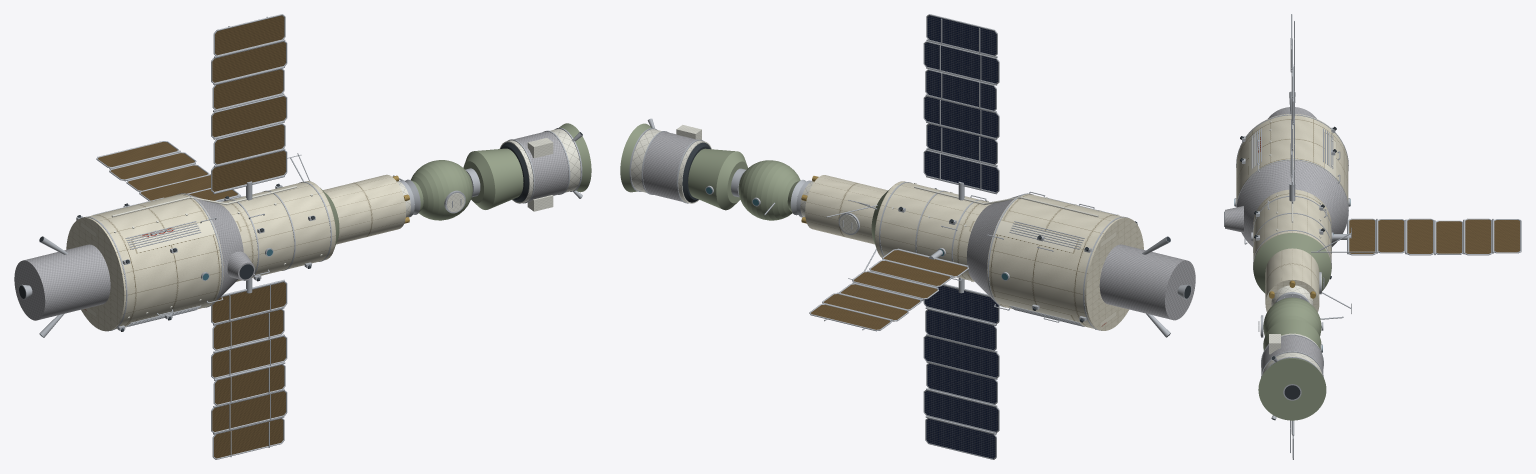
File: salyut-4.glb
The picture shows the model from 3 angles, left to right: view 1: azimuth 30°, elevation 25°; view 2: azimuth 150°, elevation 25°; view 3: azimuth 270°, elevation 25°; orthographic projection. The views are drawn at different scales.
Visible parts, largest first — view 1: Large work compartment, Small work compartment, Soyuz-derived service module, Transfer compartment, Atlas docked Soyuz front ferry / Service thermal blanket, Array 1 section 3 back, Array 1 section 5 back, Array 1 section 1 back, Array 2 section 5 back, Array 2 section 3 back, Array 2 section 1 back, Array 1 section 2 back (+14 smaller); view 2: Large work compartment, Small work compartment, Soyuz-derived service module, Transfer compartment, Atlas docked Soyuz front ferry / Service thermal blanket, Work transition cone, Array 2 section 3 cells, Array 2 section 5 cells, Array 1 section 5 cells, Array 1 section 3 cells, Array 1 section 1 cells, Array 2 section 4 cells (+16 smaller); view 3: Large work compartment, Work transition cone, Small work compartment, Atlas docked Soyuz front ferry / Aft equipment skirt, Transfer compartment, Transfer transition, Array 3 section 3 back, Array 3 section 5 back, Array 3 section 1 back, Atlas docked Soyuz front ferry / Service thermal blanket, Array 3 section 2 back, Array 3 section 4 back (+6 smaller).
Boxes of the visible parts, x1=… form: Large work compartment: x1=66, y1=194, x2=223, y2=331; Small work compartment: x1=218, y1=181, x2=335, y2=281; Soyuz-derived service module: x1=14, y1=244, x2=110, y2=320; Transfer compartment: x1=323, y1=174, x2=405, y2=244; Atlas docked Soyuz front ferry / Service thermal blanket: x1=514, y1=131, x2=568, y2=201; Array 1 section 3 back: x1=212, y1=96, x2=285, y2=137; Array 1 section 5 back: x1=212, y1=42, x2=285, y2=82; Array 1 section 1 back: x1=212, y1=151, x2=285, y2=191; Array 2 section 5 back: x1=212, y1=391, x2=285, y2=431; Array 2 section 3 back: x1=212, y1=336, x2=285, y2=377; Array 2 section 1 back: x1=212, y1=282, x2=285, y2=322; Array 1 section 2 back: x1=215, y1=124, x2=284, y2=164; Large work compartment: x1=987, y1=194, x2=1143, y2=330; Small work compartment: x1=875, y1=181, x2=992, y2=281; Soyuz-derived service module: x1=1099, y1=244, x2=1195, y2=320; Transfer compartment: x1=805, y1=175, x2=887, y2=244; Atlas docked Soyuz front ferry / Service thermal blanket: x1=643, y1=131, x2=696, y2=201; Work transition cone: x1=966, y1=195, x2=1020, y2=301; Array 2 section 3 cells: x1=924, y1=336, x2=998, y2=377; Array 2 section 5 cells: x1=924, y1=391, x2=998, y2=431; Array 1 section 5 cells: x1=924, y1=42, x2=998, y2=83; Array 1 section 3 cells: x1=924, y1=97, x2=998, y2=137; Array 1 section 1 cells: x1=924, y1=151, x2=998, y2=192; Array 2 section 4 cells: x1=927, y1=363, x2=996, y2=403; Large work compartment: x1=1236, y1=114, x2=1348, y2=203; Work transition cone: x1=1236, y1=160, x2=1348, y2=246; Small work compartment: x1=1253, y1=189, x2=1331, y2=266; Atlas docked Soyuz front ferry / Aft equipment skirt: x1=1258, y1=358, x2=1326, y2=420; Transfer compartment: x1=1265, y1=248, x2=1319, y2=312; Transfer transition: x1=1253, y1=233, x2=1331, y2=293; Array 3 section 3 back: x1=1407, y1=219, x2=1432, y2=253; Array 3 section 5 back: x1=1465, y1=219, x2=1490, y2=253; Array 3 section 1 back: x1=1349, y1=219, x2=1374, y2=253; Atlas docked Soyuz front ferry / Service thermal blanket: x1=1261, y1=335, x2=1323, y2=374; Array 3 section 2 back: x1=1378, y1=220, x2=1403, y2=252; Array 3 section 4 back: x1=1436, y1=221, x2=1461, y2=253.
Bounding box in the file's own units: 135 × 100 × 64.84.
Materials: 10 (6 with a texture image).
